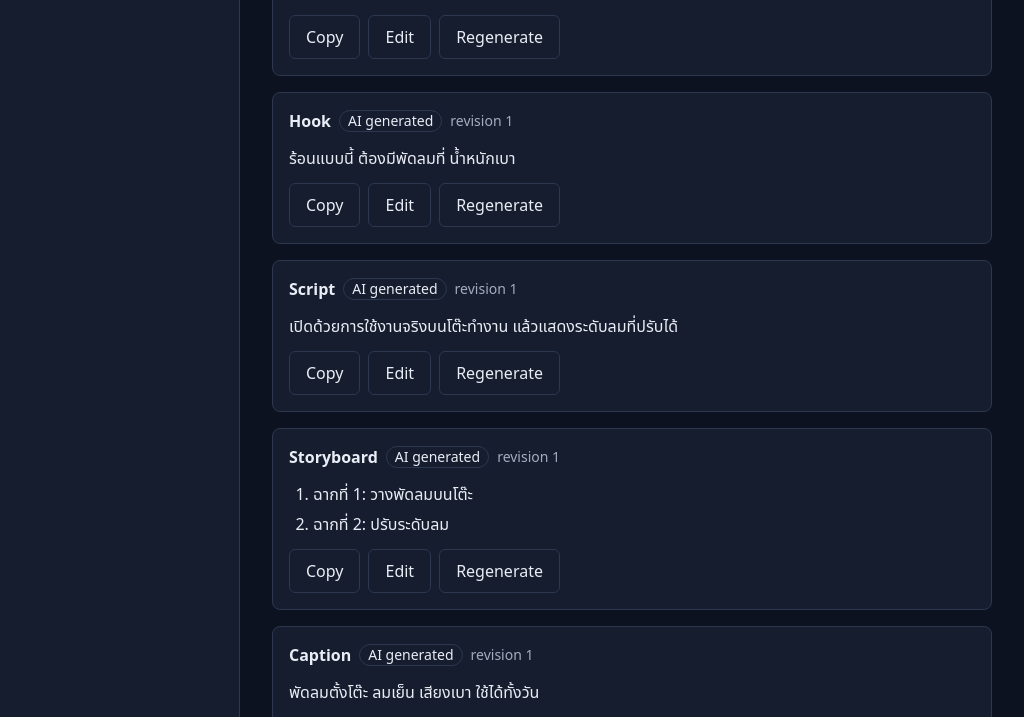
it: DraftPage: regenerate a section › a CONFLICT when the job is created says the section changed and reloads the draft
(page scrolled)
Click the button "Regenerate" below "Script" at (500, 373), box [439,351,560,395]
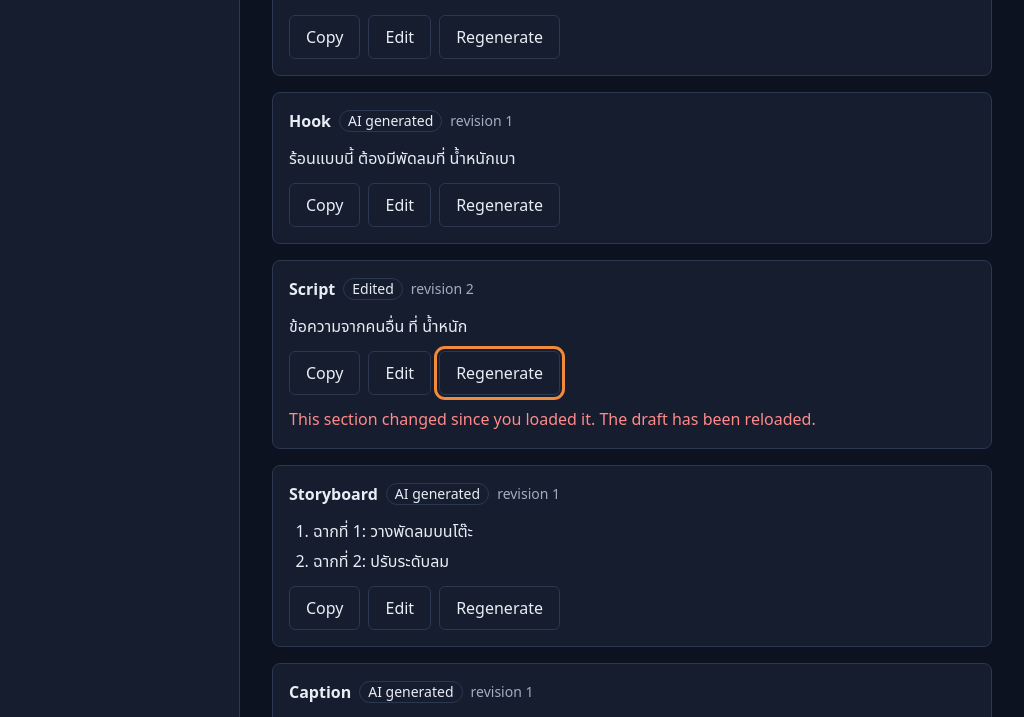
Check: the message reads "This section changed since you loaded it. The draft has been reloaded.", box [289,408,816,430]
Check: the text "ข้อความจากคนอื่น ที่ น้ำหนัก" is shown, box [289,315,467,337]
Check: the text "revision 2" is shown, box [411,279,474,299]
